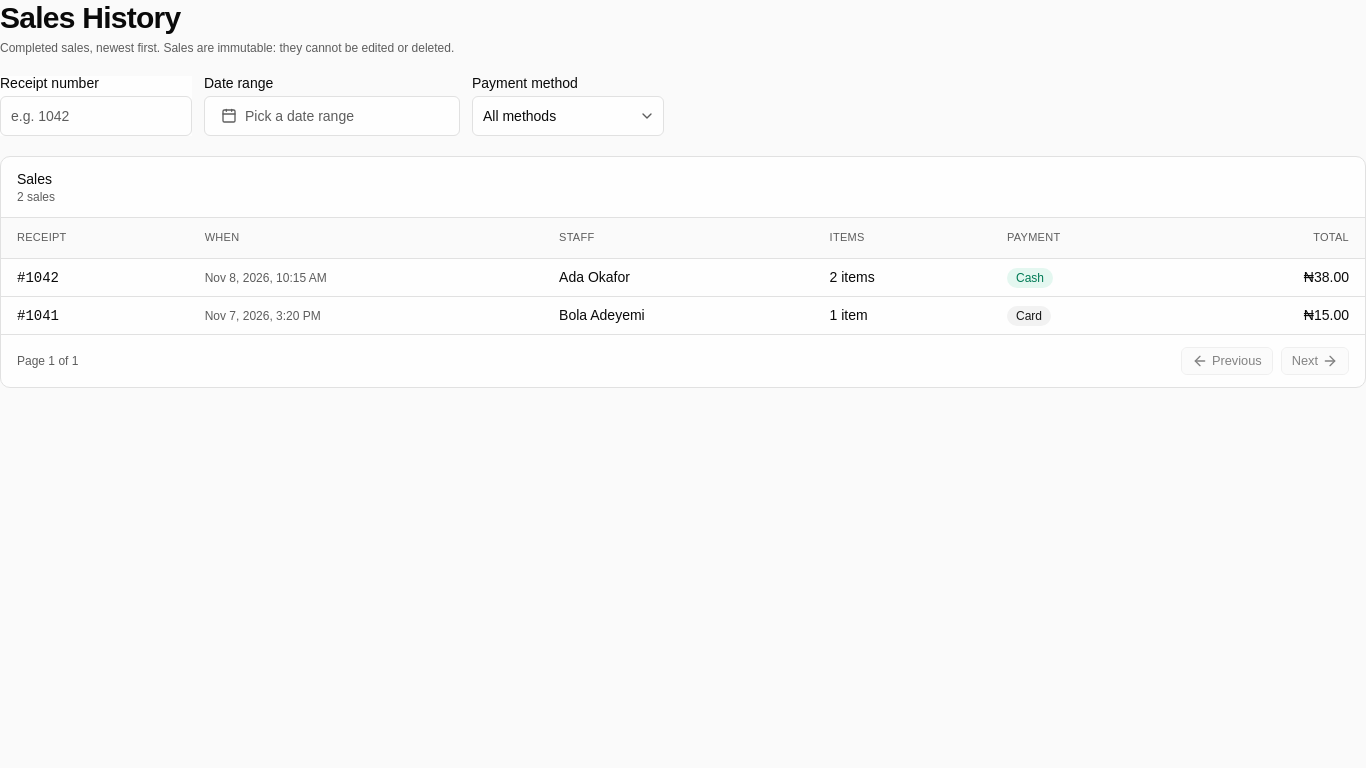
Test: SalesHistoryPage › opens the sale details drawer from a row
Expected: the text "2 sales" is shown, 17,189 -> 55,205
Click the text "#1042" at (21, 278), box 17,270 -> 59,286
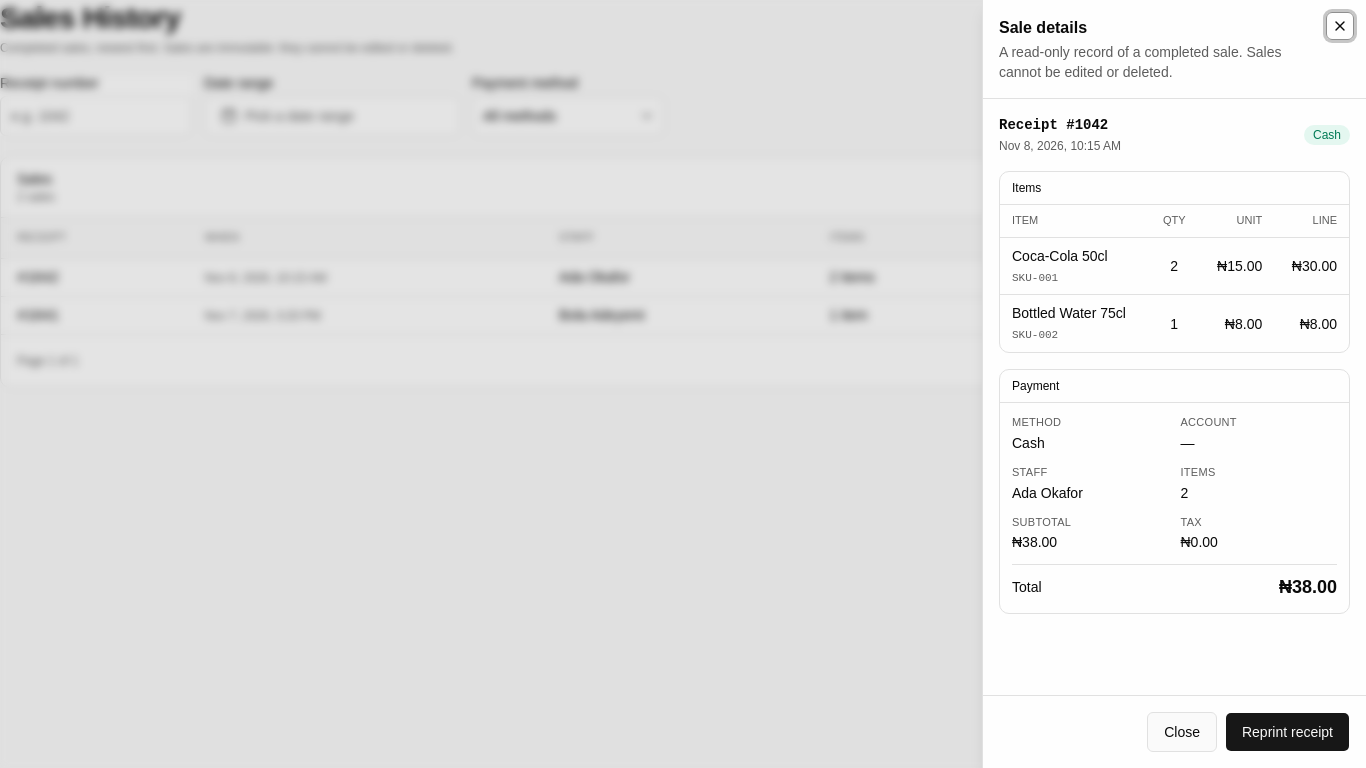
Now the text "Coca-Cola 50cl" is shown, box 1012,248 -> 1108,264
